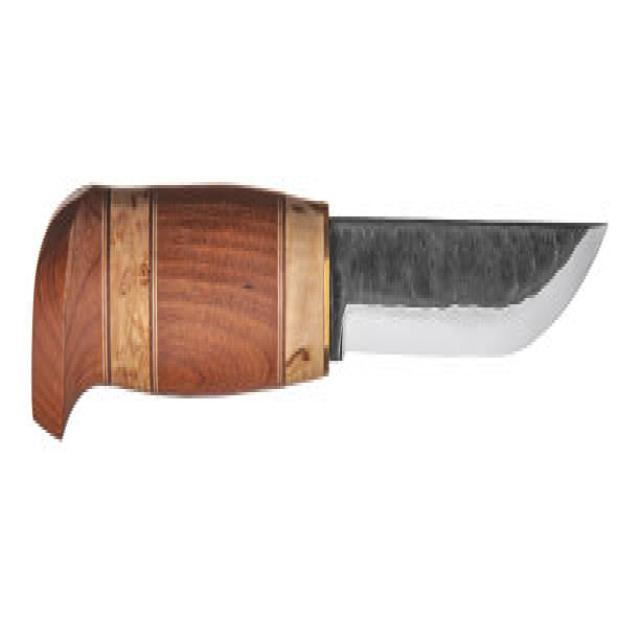knife: (23, 156, 612, 469)
